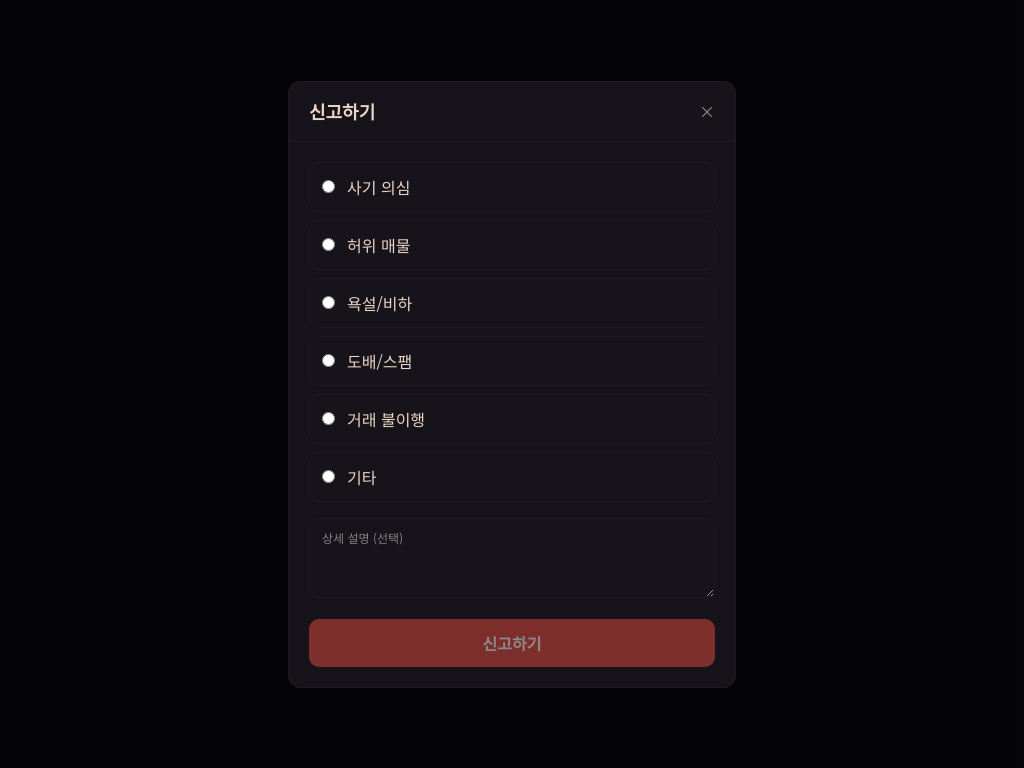
Test case: ReportModal › enables submit button after selecting reason
Click the text "사기 의심" at (379, 186), box [347,174,410,198]
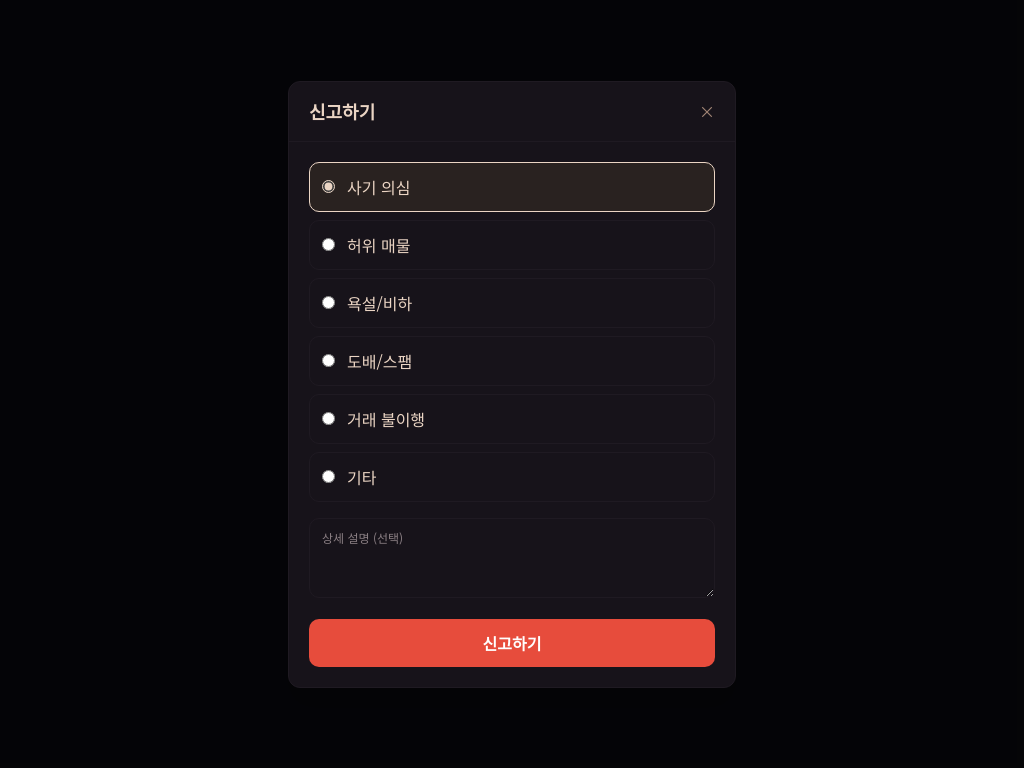
Now the button "신고하기" is enabled, box [309,618,715,666]
